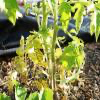Tomato Septoria leaf spot: (57, 42, 84, 71), (14, 38, 29, 87), (27, 41, 48, 71), (74, 1, 88, 33), (59, 2, 74, 28)
